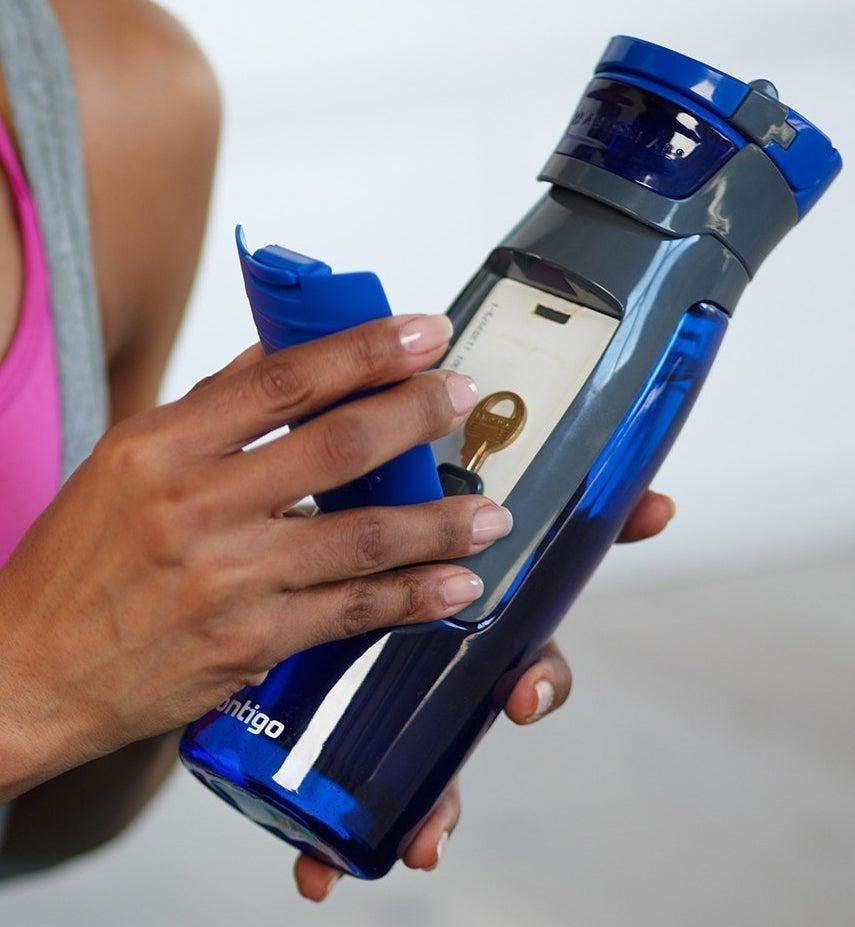gym bottle: (180, 38, 843, 878)
